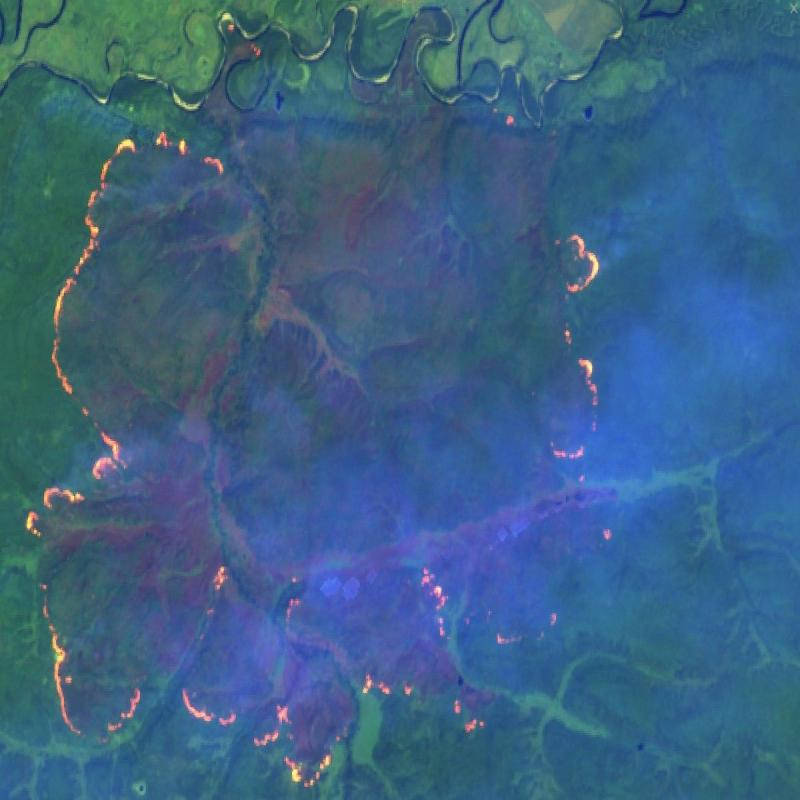fire: (15, 116, 487, 800), (537, 222, 620, 489)
